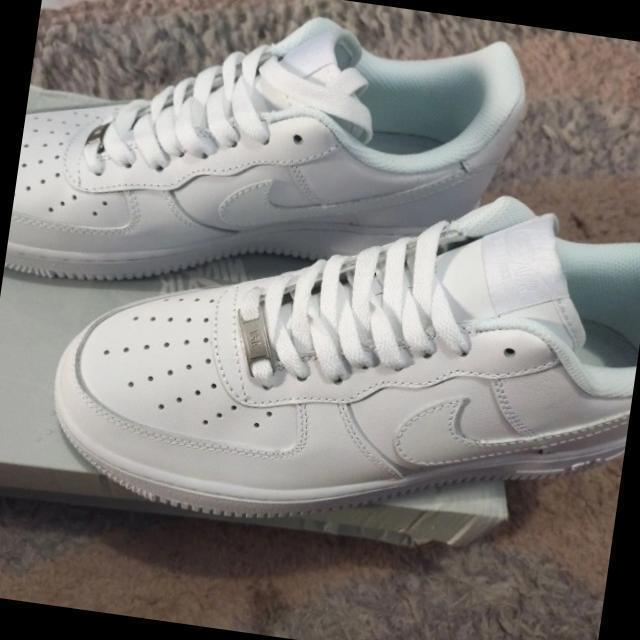nike original air force: (33, 137, 640, 577), (2, 0, 540, 347)
